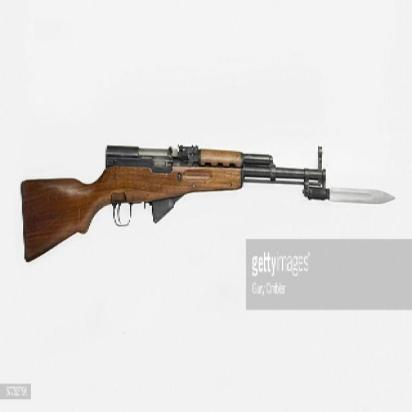Gun: (9, 130, 402, 267)
